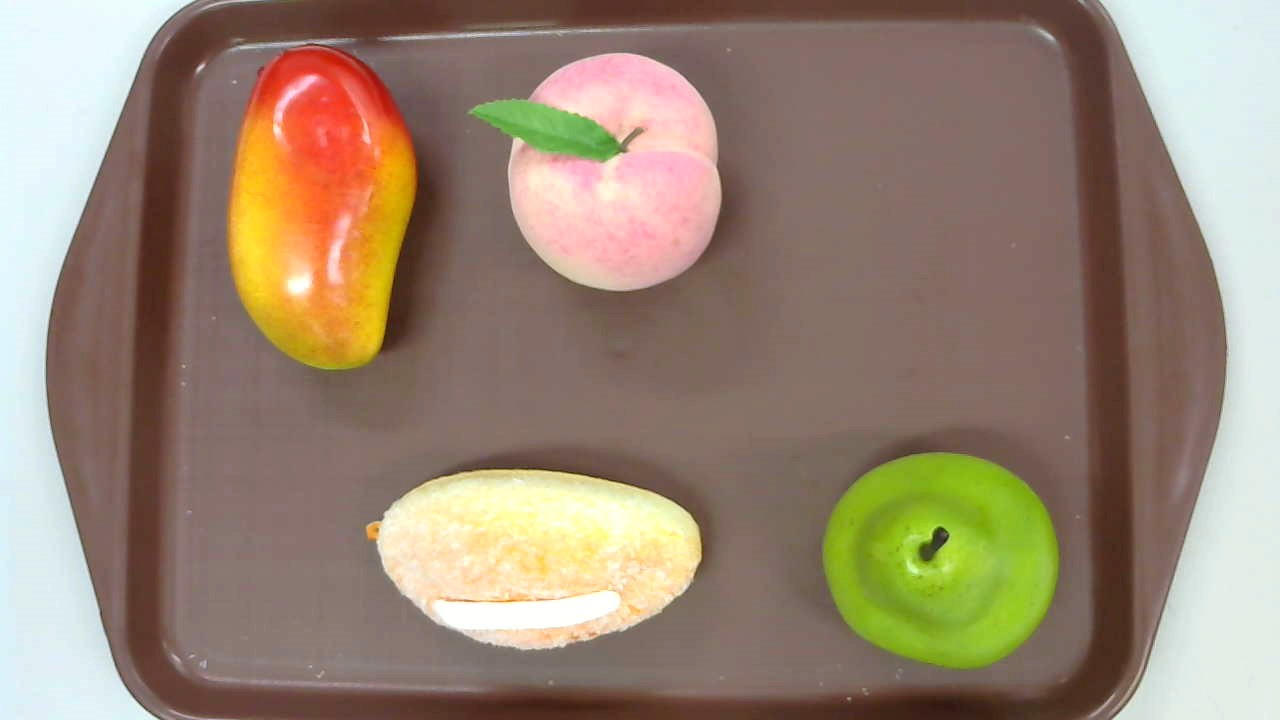coconut: (366, 468, 703, 651)
green pear: (820, 450, 1058, 667)
peach: (466, 53, 724, 292)
red mango: (228, 42, 416, 371)
